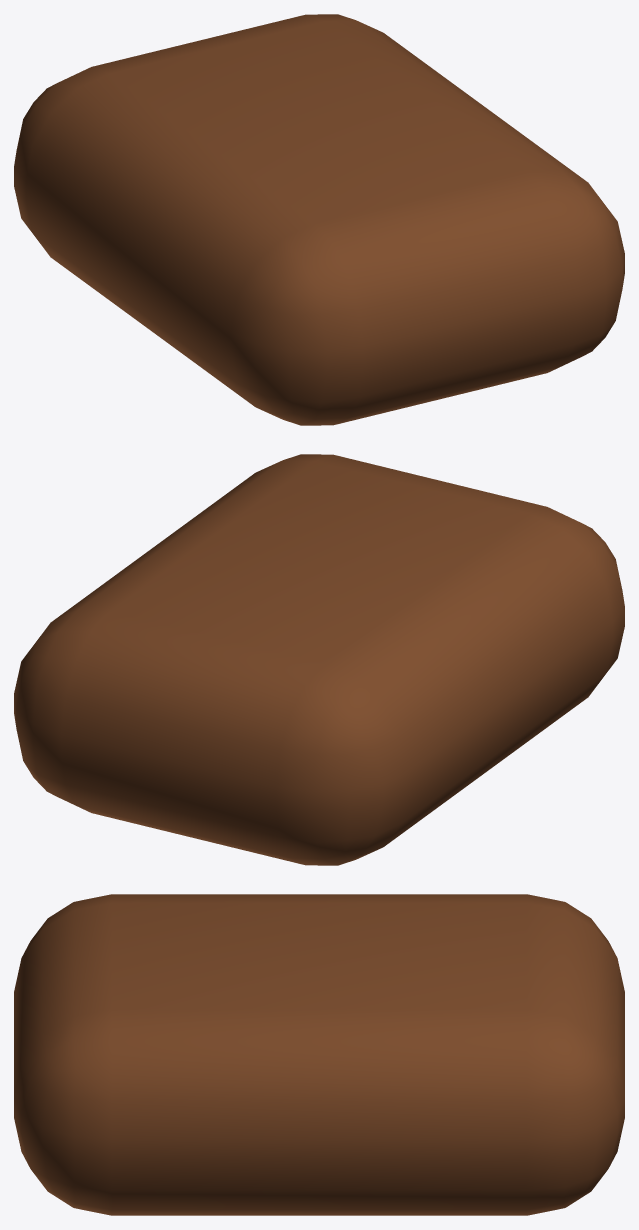
File: wear-shoe.glb
3 views of the same model, one above another, from view 1: azimuth 30°, elevation 25°; view 2: azimuth 150°, elevation 25°; view 3: azimuth 270°, elevation 25° (orthographic).
Parts seen in each view (by area): view 1: wear-shoe-l; view 2: wear-shoe-l; view 3: wear-shoe-l.
Part boxes in pixels (x1=…): wear-shoe-l: x1=14, y1=14, x2=624, y2=425; wear-shoe-l: x1=14, y1=454, x2=624, y2=865; wear-shoe-l: x1=14, y1=894, x2=624, y2=1215.
Bounding box in the file's own units: 0.2009 × 0.0979 × 0.2746.
